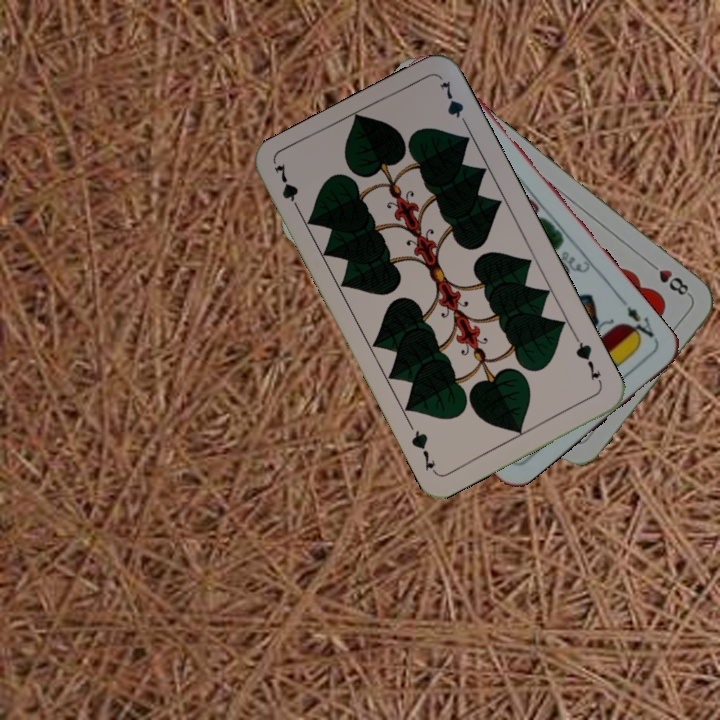EA: (620, 301, 661, 345)
G7: (270, 160, 305, 218), (571, 333, 605, 388)
H8: (644, 257, 694, 299)
